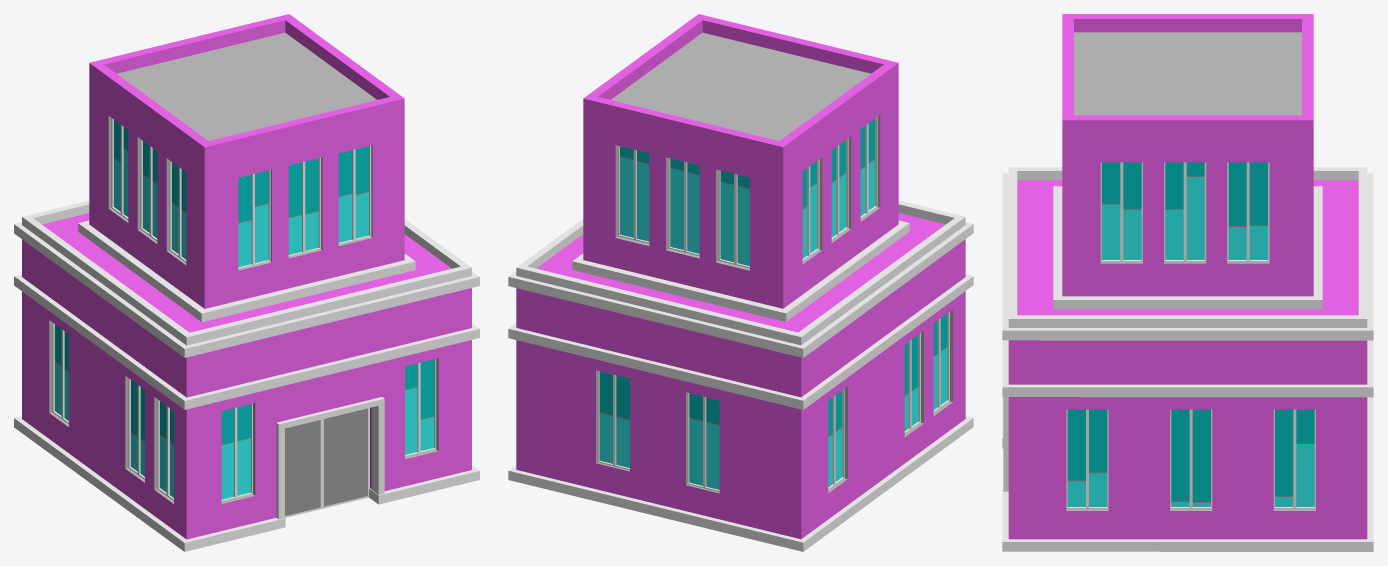
Rendered from SM_House_21_05.FBX.
3 views of the same model, side by side, from view 1: azimuth 30°, elevation 25°; view 2: azimuth 150°, elevation 25°; view 3: azimuth 270°, elevation 25° (orthographic). The views are drawn at different scales.
Visible parts, largest first — view 1: SM_House_21_05; view 2: SM_House_21_05; view 3: SM_House_21_05.
Boxes of the visible parts, x1,y1,x2,y2 form: SM_House_21_05: [14, 14, 479, 551]; SM_House_21_05: [508, 14, 973, 551]; SM_House_21_05: [1002, 14, 1373, 551].
Bounding box in the file's own units: 6.21 × 7.5 × 6.21.
Materials: 1 (1 with a texture image).
